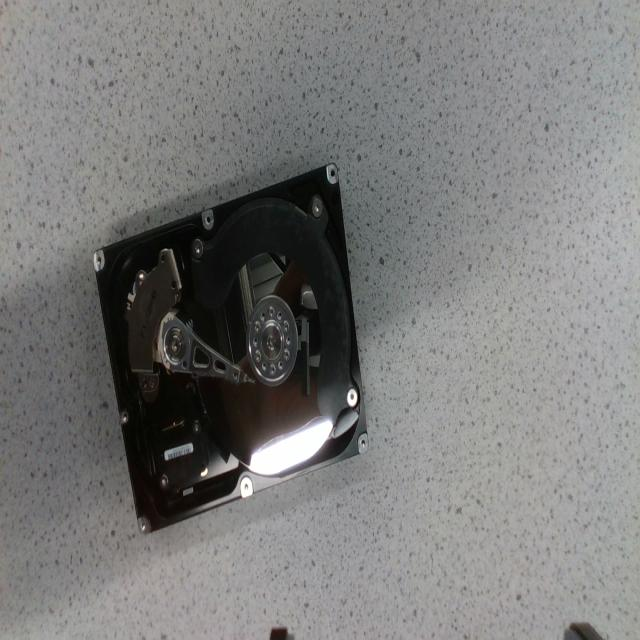actuator arm: (154, 313, 250, 382)
actuator axis: (166, 329, 184, 356)
case: (94, 164, 368, 532)
magnet: (125, 249, 181, 379)
pcb connector: (155, 420, 208, 493)
platter: (193, 254, 330, 471)
platter holder: (248, 295, 298, 384)
platter protector: (192, 200, 350, 419)
screw: (191, 238, 204, 260), (312, 196, 324, 218), (346, 387, 358, 406), (160, 475, 168, 489), (192, 420, 200, 434), (255, 349, 261, 362), (283, 350, 290, 361), (267, 307, 274, 318), (269, 364, 275, 376), (283, 320, 288, 333), (255, 321, 260, 334)
